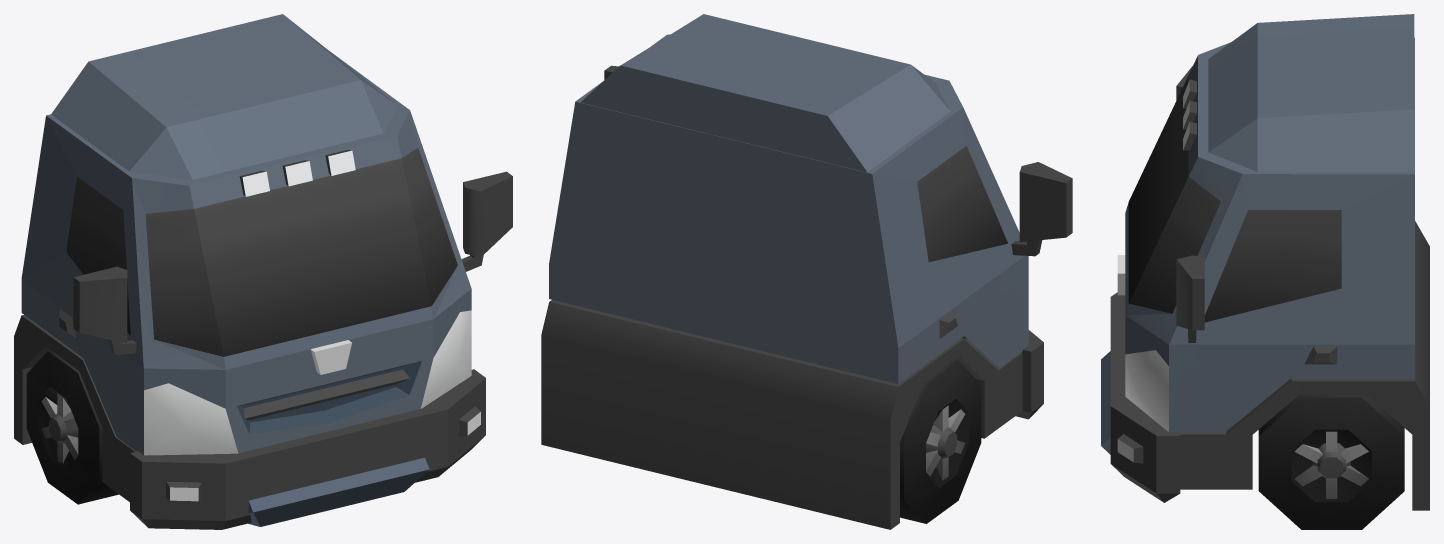
File: head_C_2.fbx
3 renders of one model, left to right at view 1: azimuth 30°, elevation 25°; view 2: azimuth 150°, elevation 25°; view 3: azimuth 270°, elevation 25°, orthographic. The views are drawn at different scales.
Visible parts, largest first — view 1: head_C_2; view 2: head_C_2; view 3: head_C_2.
Part boxes in pixels (bbox=[...]): head_C_2: bbox=[14, 14, 512, 529]; head_C_2: bbox=[541, 14, 1072, 529]; head_C_2: bbox=[1101, 14, 1429, 529].
Bounding box in the file's own units: 16.08 × 13.68 × 10.51.
